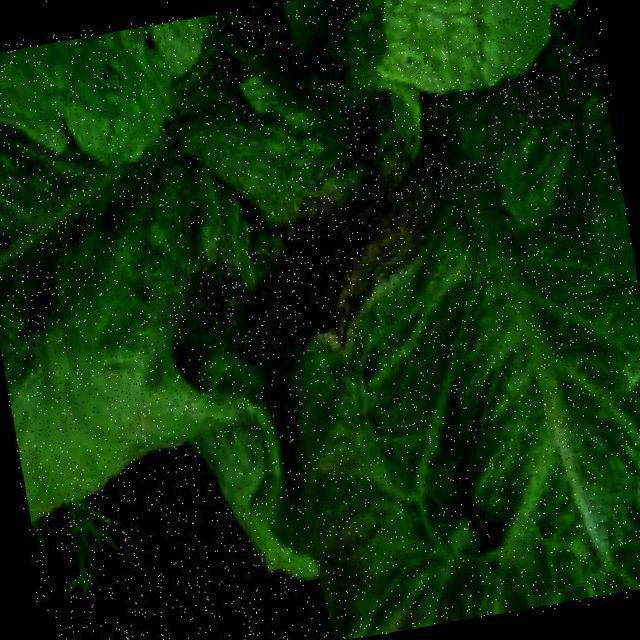Septoria_Blight_on_lettuce: (128, 65, 499, 419)
